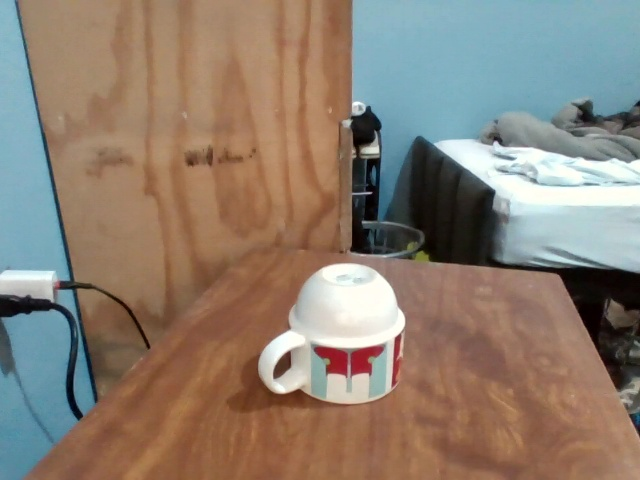taza: (256, 262, 406, 404)
